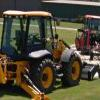Tractor: (4, 7, 90, 96)
